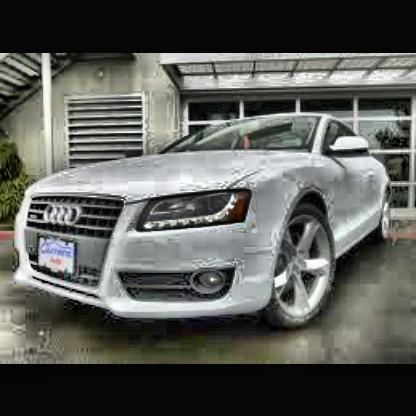Audi A5 Coupe 2012: (19, 111, 398, 334)
